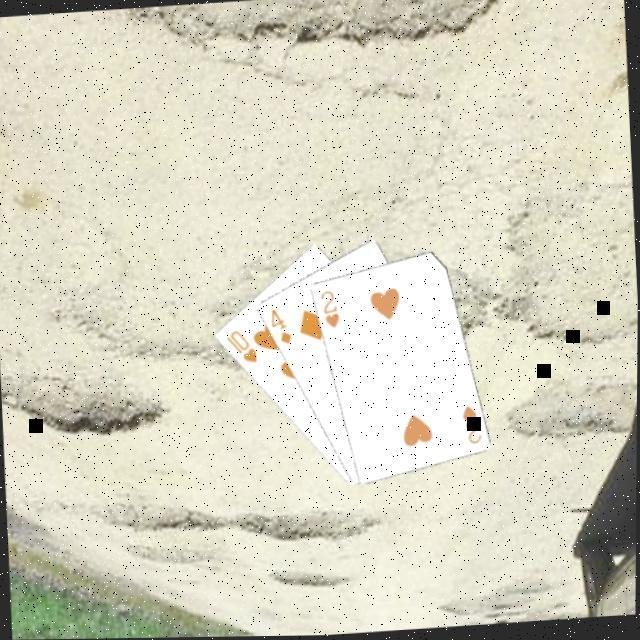10H: (224, 327, 262, 369)
2H: (317, 288, 343, 334), (460, 403, 486, 449)
4D: (268, 306, 296, 349)
